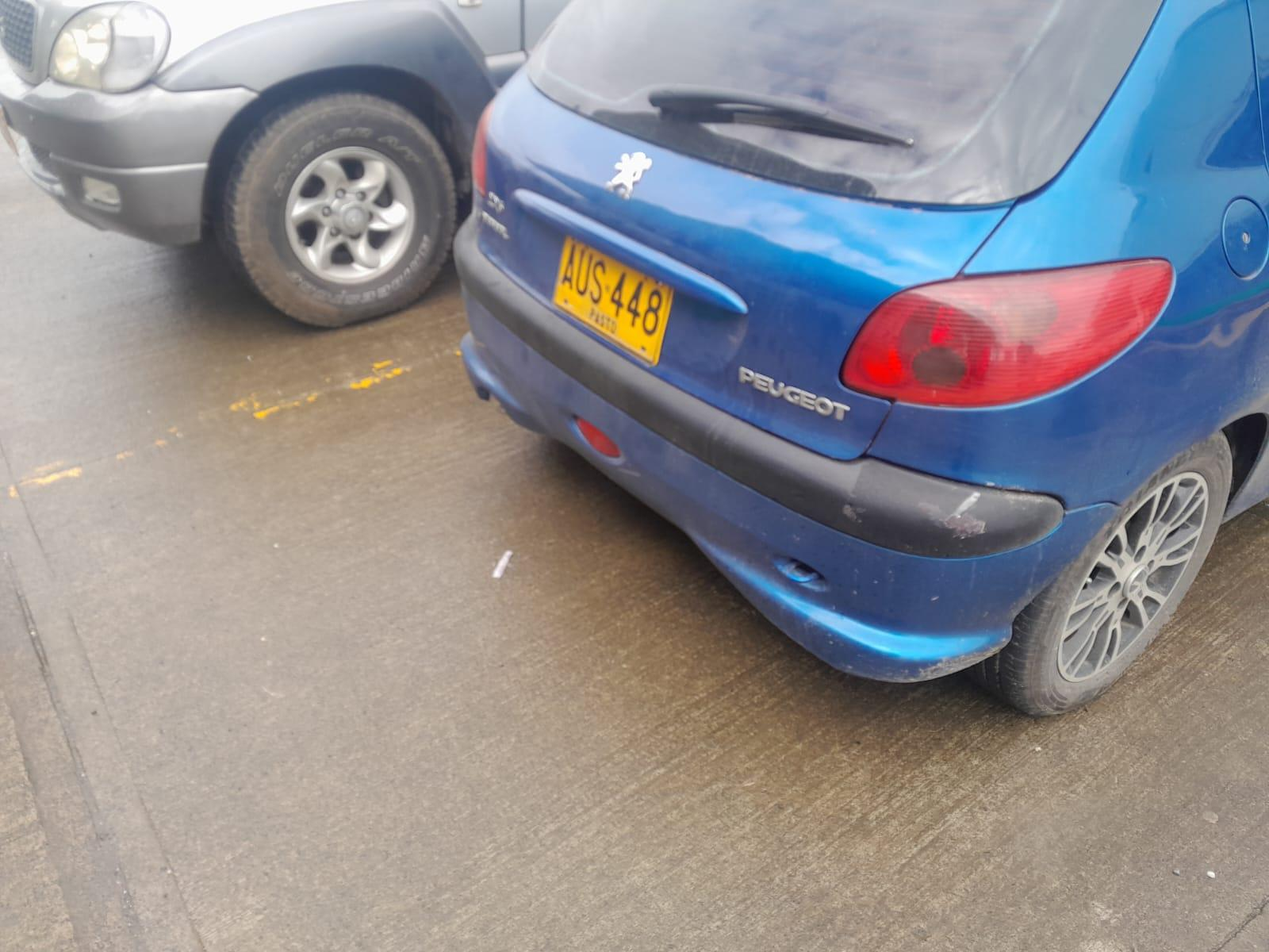placa: (554, 237, 673, 364)
